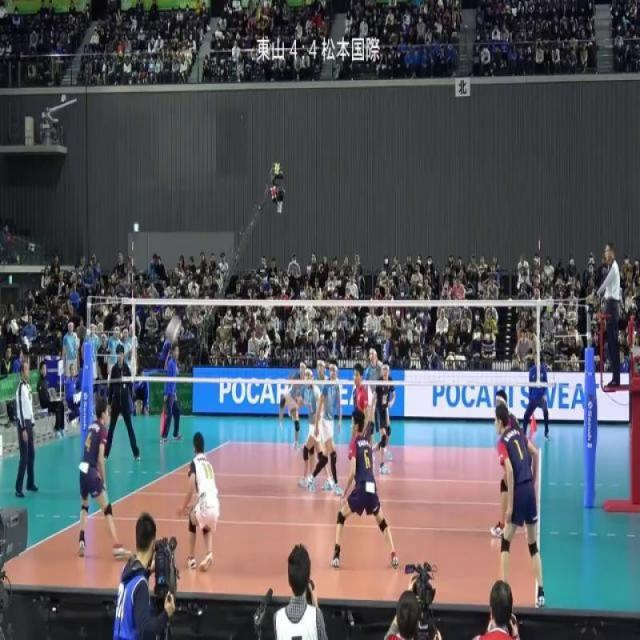volleyball: (165, 314, 182, 342)
